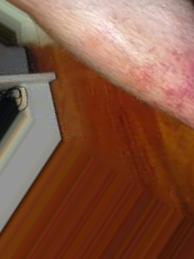Reupload: (8, 0, 193, 126)
